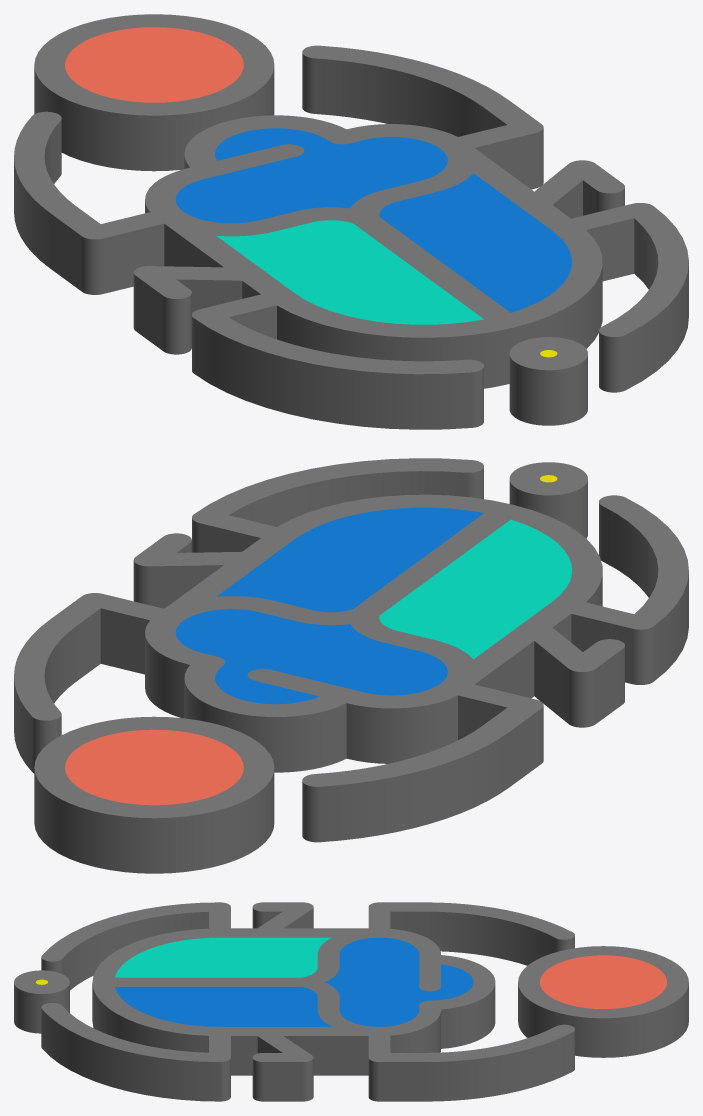
The model's file is Escaravelho.fbx.
The picture shows the model from 3 angles, top to bottom: view 1: azimuth 30°, elevation 25°; view 2: azimuth 150°, elevation 25°; view 3: azimuth 270°, elevation 25°; orthographic projection. The views are drawn at different scales.
Parts seen in each view (by area): view 1: Curve.002; view 2: Curve.002; view 3: Curve.002.
Boxes of the visible parts, x1,y1,x2,y2 form: Curve.002: (14, 14, 688, 429); Curve.002: (14, 458, 688, 873); Curve.002: (14, 902, 688, 1101).
Size of the model in its own units: 7.35 by 0.8476 by 13.12.
